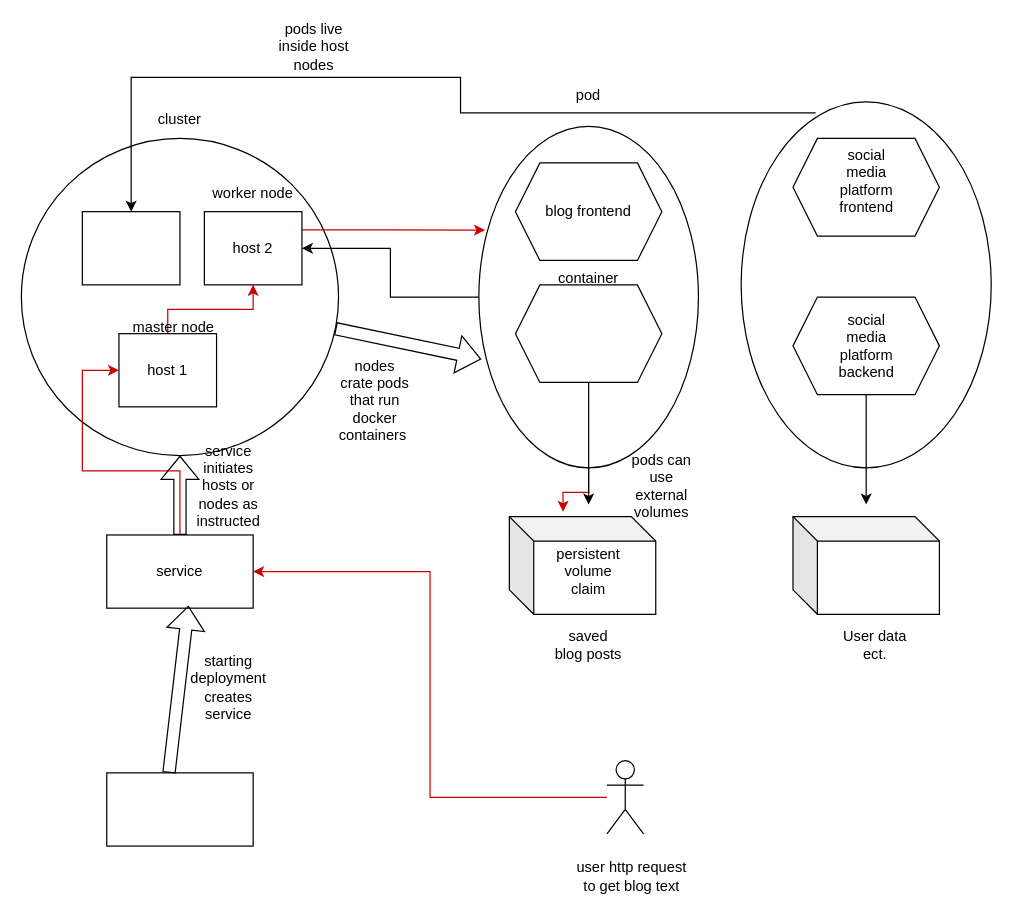
Image size: 1013x922. Some labels were removed from this diagram. The shapes that lost their labels are listed below. From the top down, each one's box as (x1, y1, x2, y2) in pixels, then its label:
(81, 210, 180, 285): host 3
(514, 284, 662, 382): blog backend
(106, 772, 253, 846): personal machine
(606, 759, 644, 834): Actor
